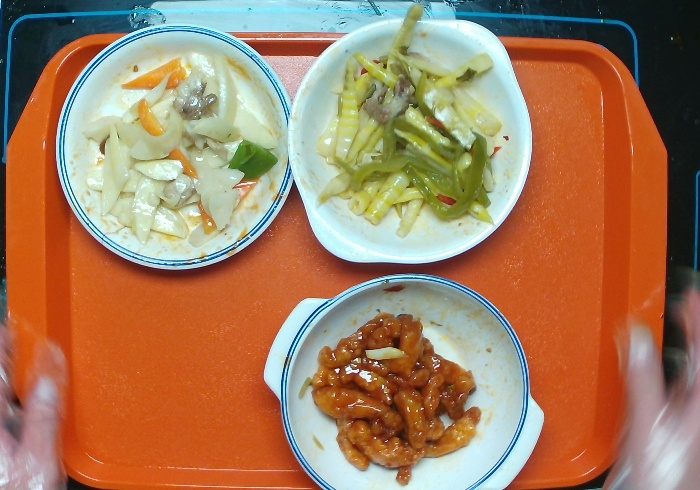HZYJPL-Dai_Er_Bai_Yuan_Wan: (283, 15, 536, 266)
HZYJPL-Lan_Bian_Dai_Er_Wan: (260, 271, 547, 490)
HZYJPL-Lan_Bian_Yuan_Die: (53, 21, 297, 273)
